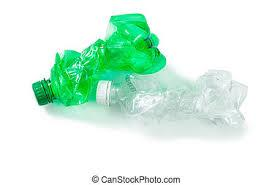plastic: (34, 13, 167, 106)
